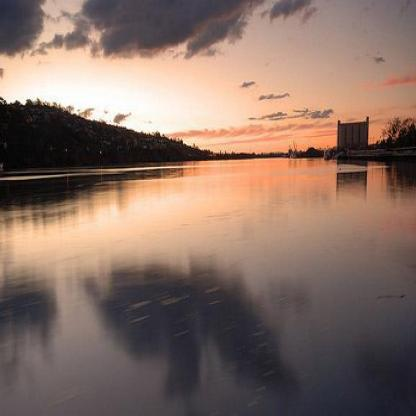other: (183, 119, 338, 182), (35, 72, 154, 136)
